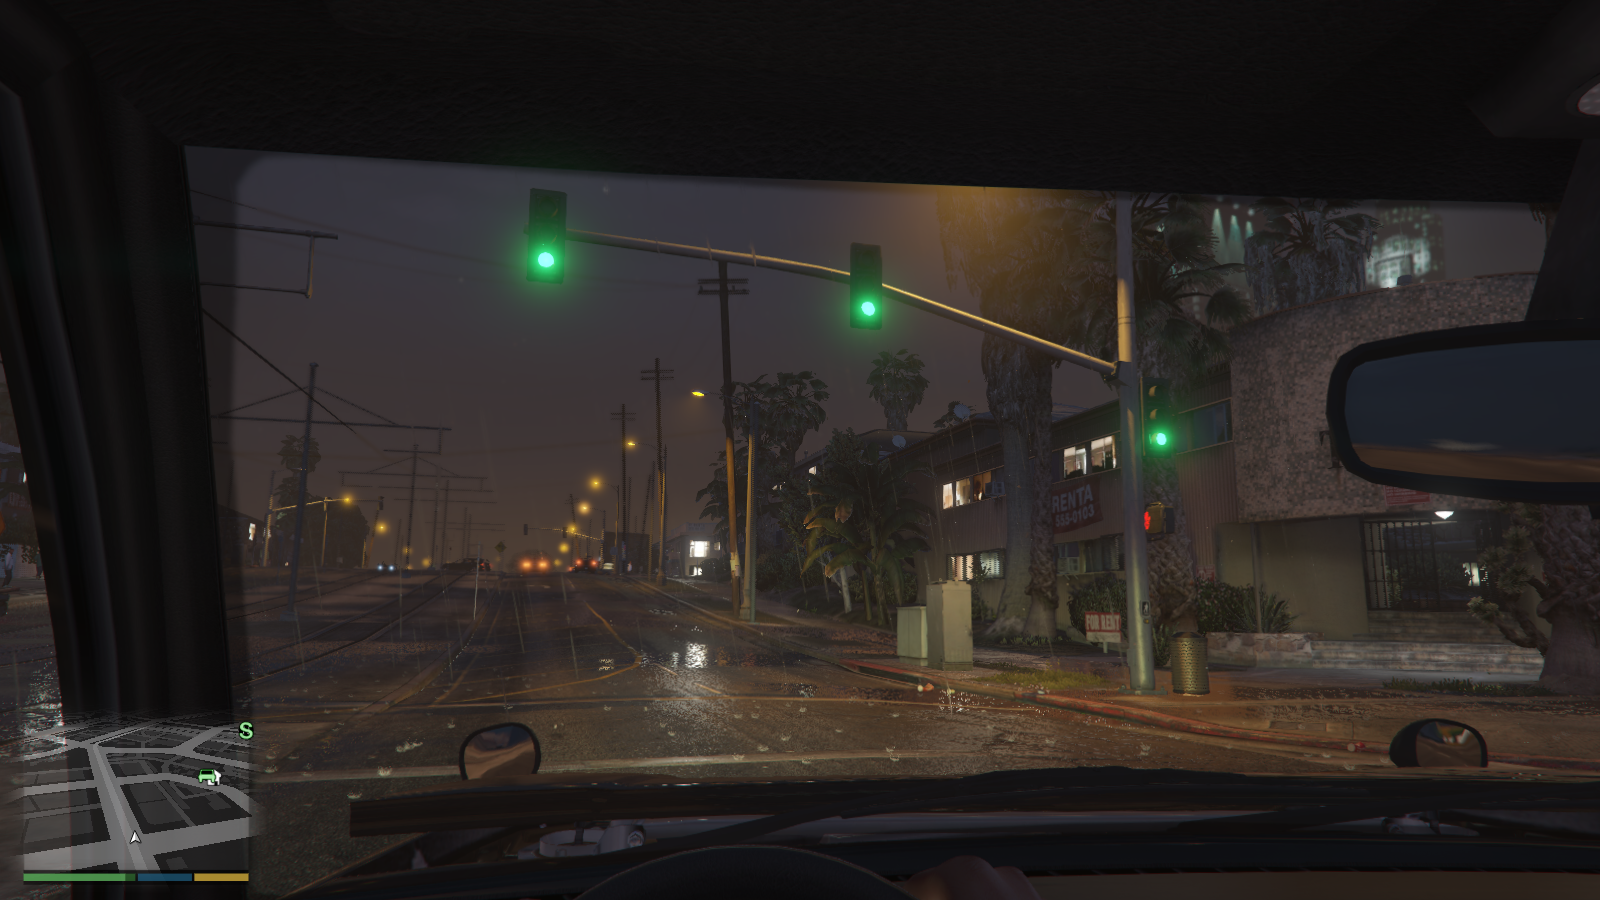green: (526, 186, 571, 281), (1140, 374, 1176, 463), (851, 244, 884, 334)
